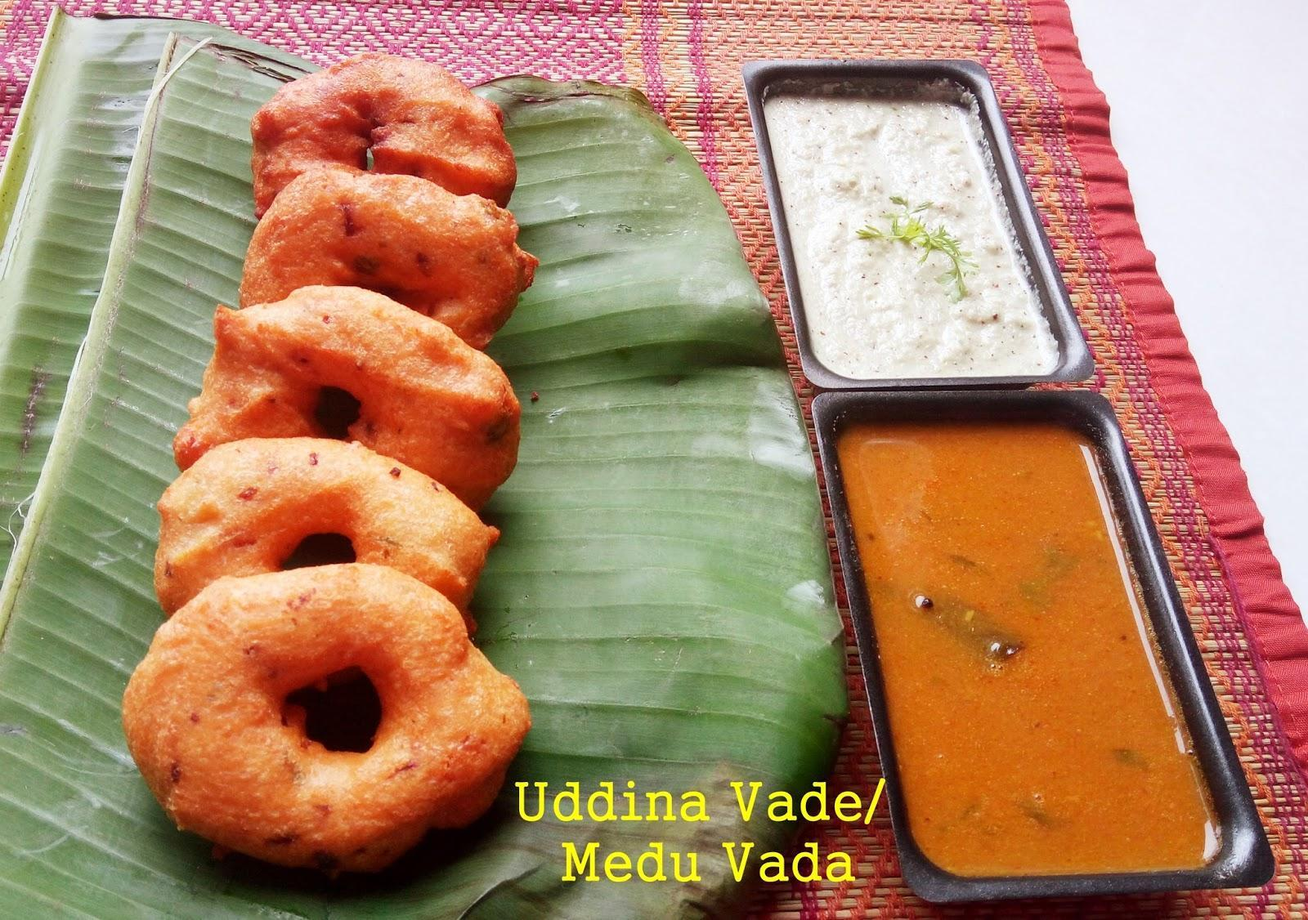mvada: (252, 88, 507, 839)
